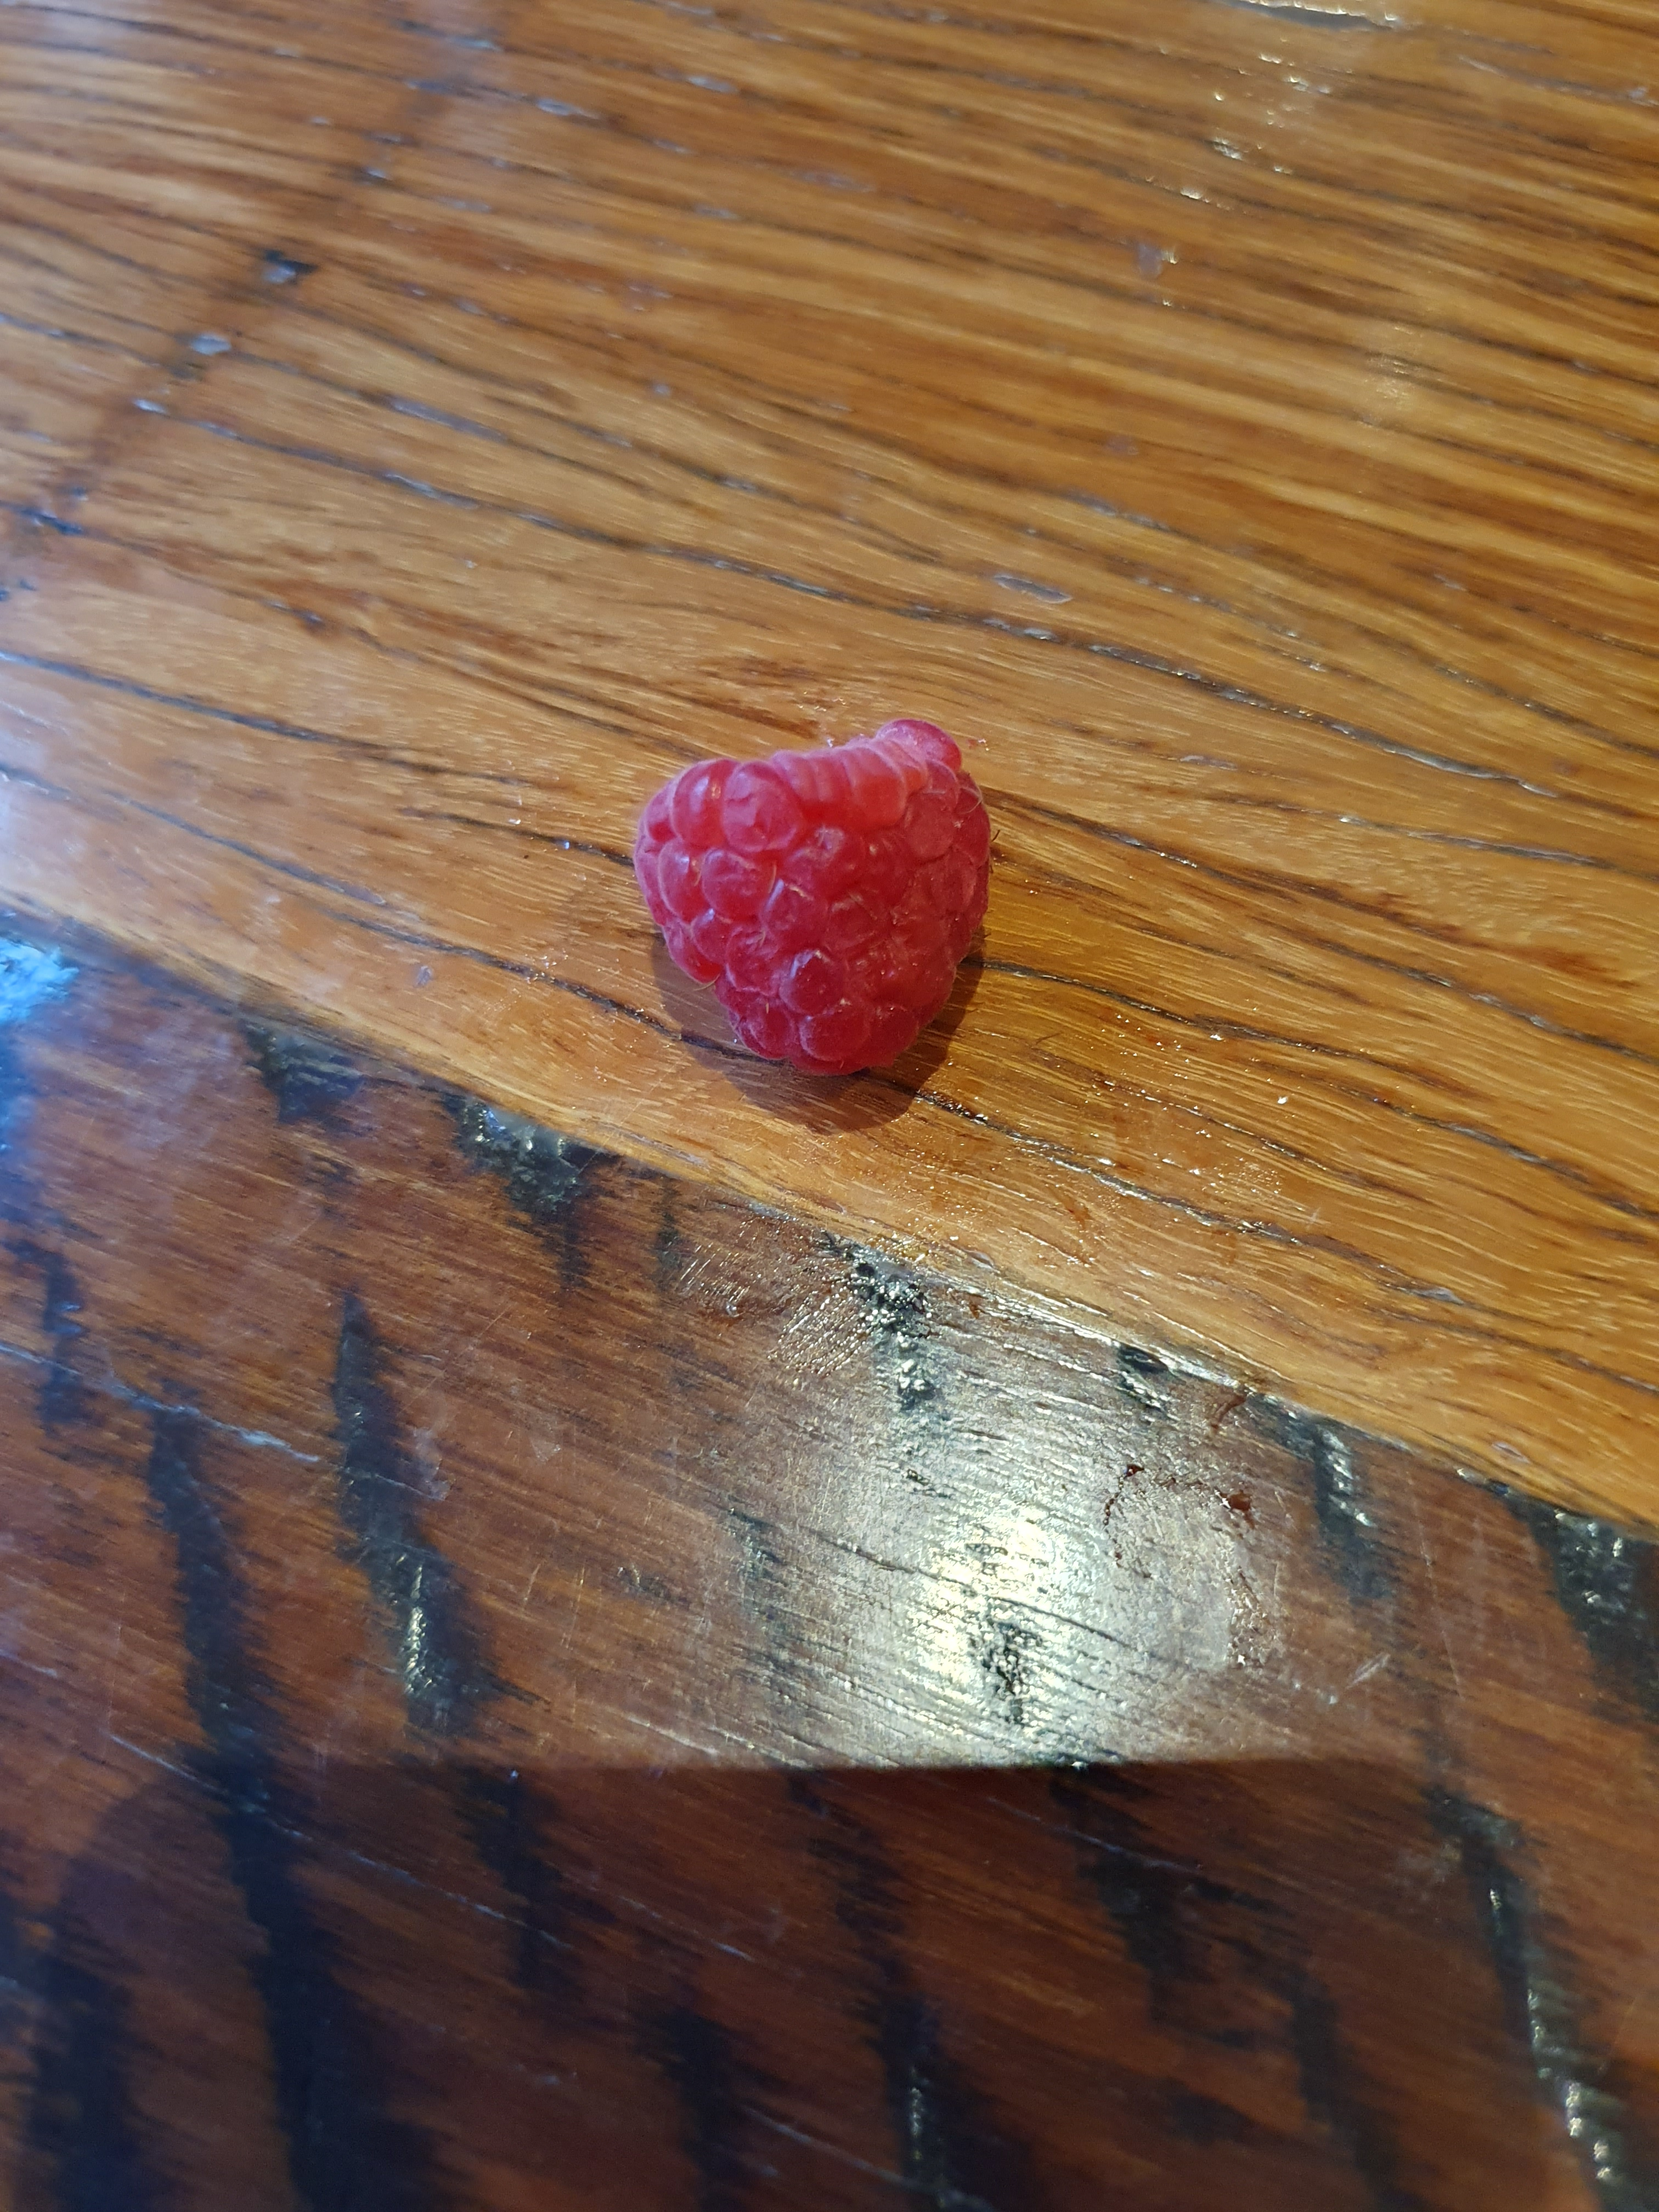raspberry: (599, 709, 1025, 1111)
